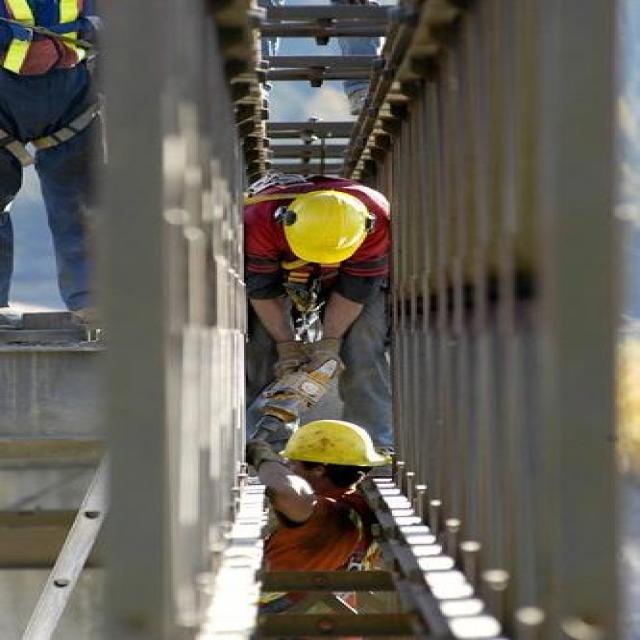Reflective-Jacket: (246, 481, 381, 594), (0, 0, 121, 83)
Safety-Helmet: (273, 185, 386, 272), (275, 415, 396, 472)
